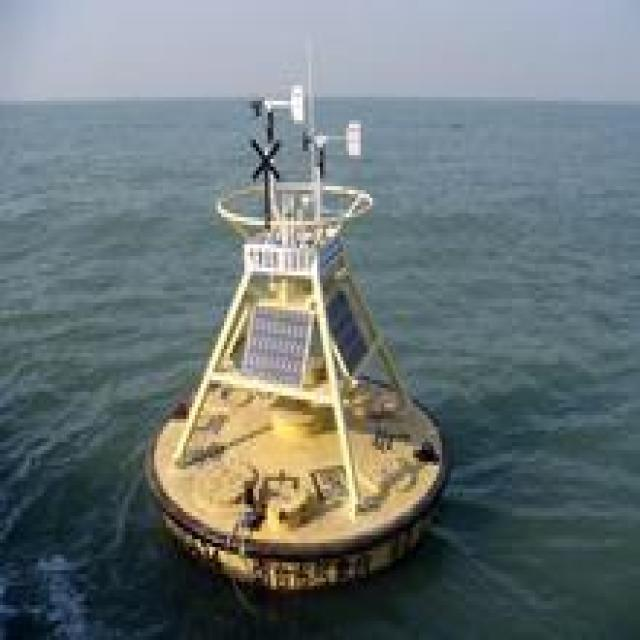buoy: (152, 69, 453, 587)
